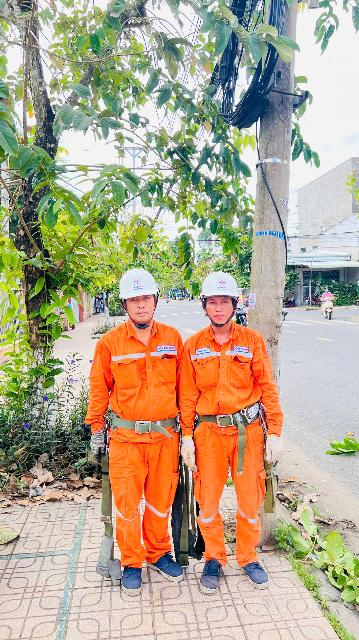gloves: (263, 429, 292, 465), (90, 425, 111, 459)
harness: (99, 407, 195, 438), (192, 401, 269, 429)
helmet: (195, 265, 253, 302), (111, 265, 170, 300)
shoes: (238, 549, 278, 594), (110, 565, 155, 599), (146, 550, 189, 584), (196, 549, 225, 598)
